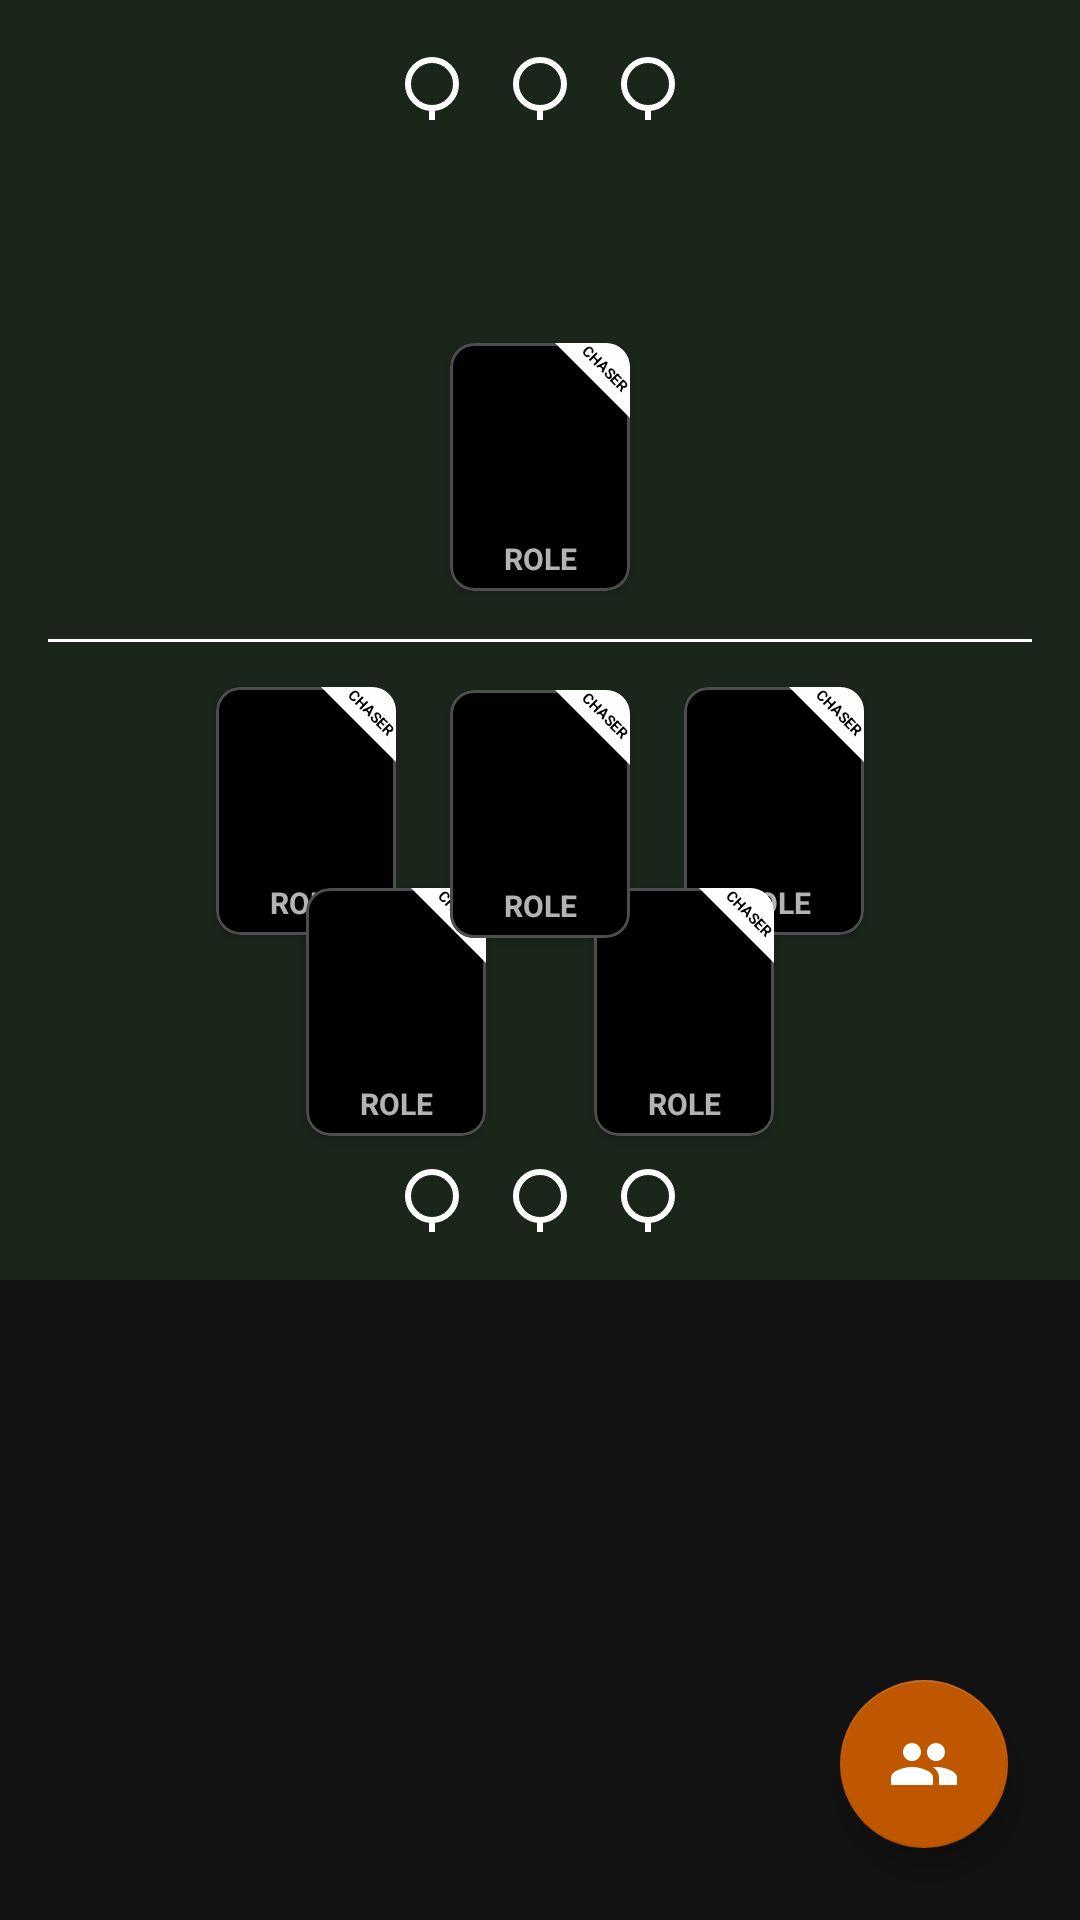

Point at icon controls on the screen. Image size 1080x1920, points as [x,y].
hoop: [432,88], [540,88], [648,88], [432,1200], [540,1200], [648,1200]
Toggle Bench: [924,1764]
